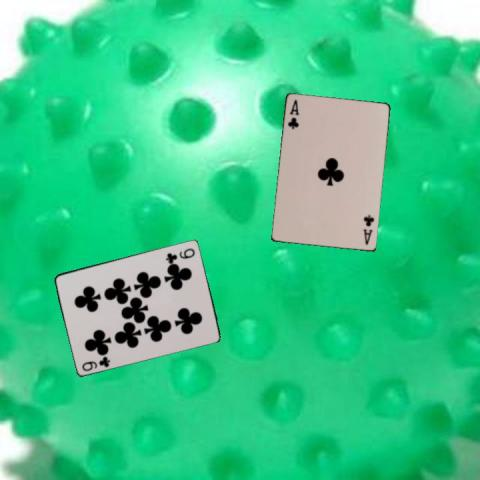9c: (79, 353, 112, 373), (162, 245, 196, 263)
Ac: (284, 97, 300, 131), (361, 212, 375, 246)
